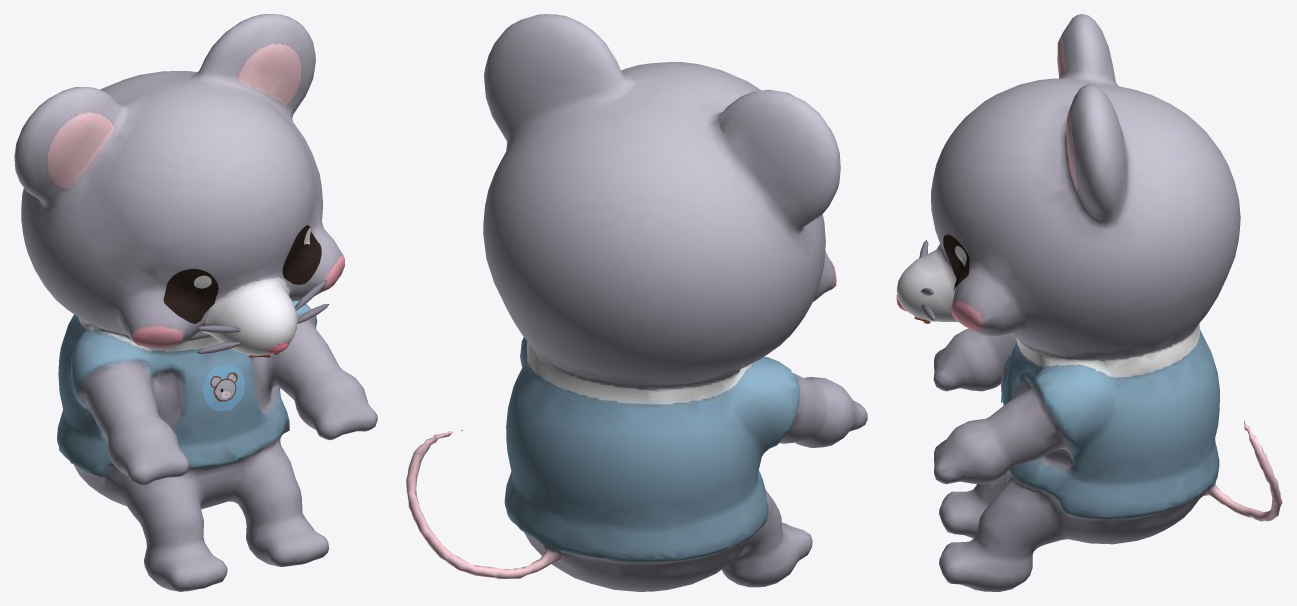
File: mouse.glb
The picture shows the model from 3 angles, left to right: view 1: azimuth 30°, elevation 25°; view 2: azimuth 150°, elevation 25°; view 3: azimuth 270°, elevation 25°; orthographic projection. The views are drawn at different scales.
Parts seen in each view (by area): view 1: chibi, face; view 2: chibi; view 3: chibi, face.
Part boxes in pixels (<box>): chibi: <box>14,14,377,591</box>; face: <box>163,225,328,411</box>; chibi: <box>406,14,867,591</box>; chibi: <box>897,14,1282,591</box>; face: <box>896,234,1009,402</box>.
Bounding box in the file's own units: 0.7782 × 1.23 × 0.8424.
Materials: 12 (1 with a texture image).
